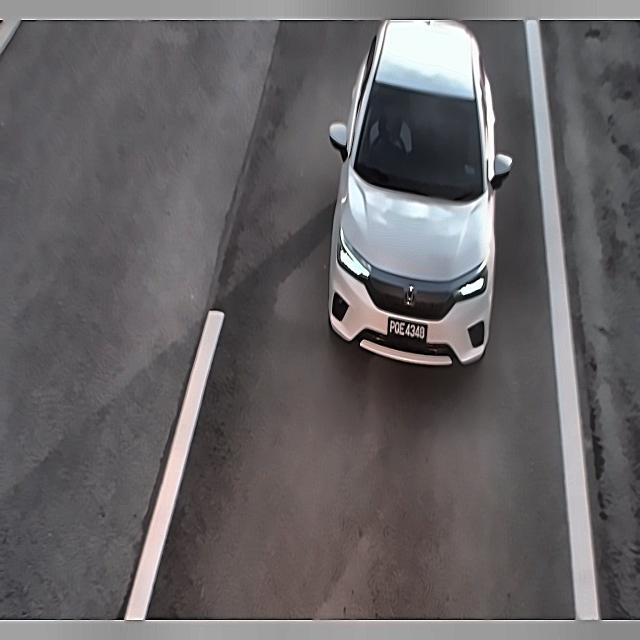car: (382, 309, 434, 355)
